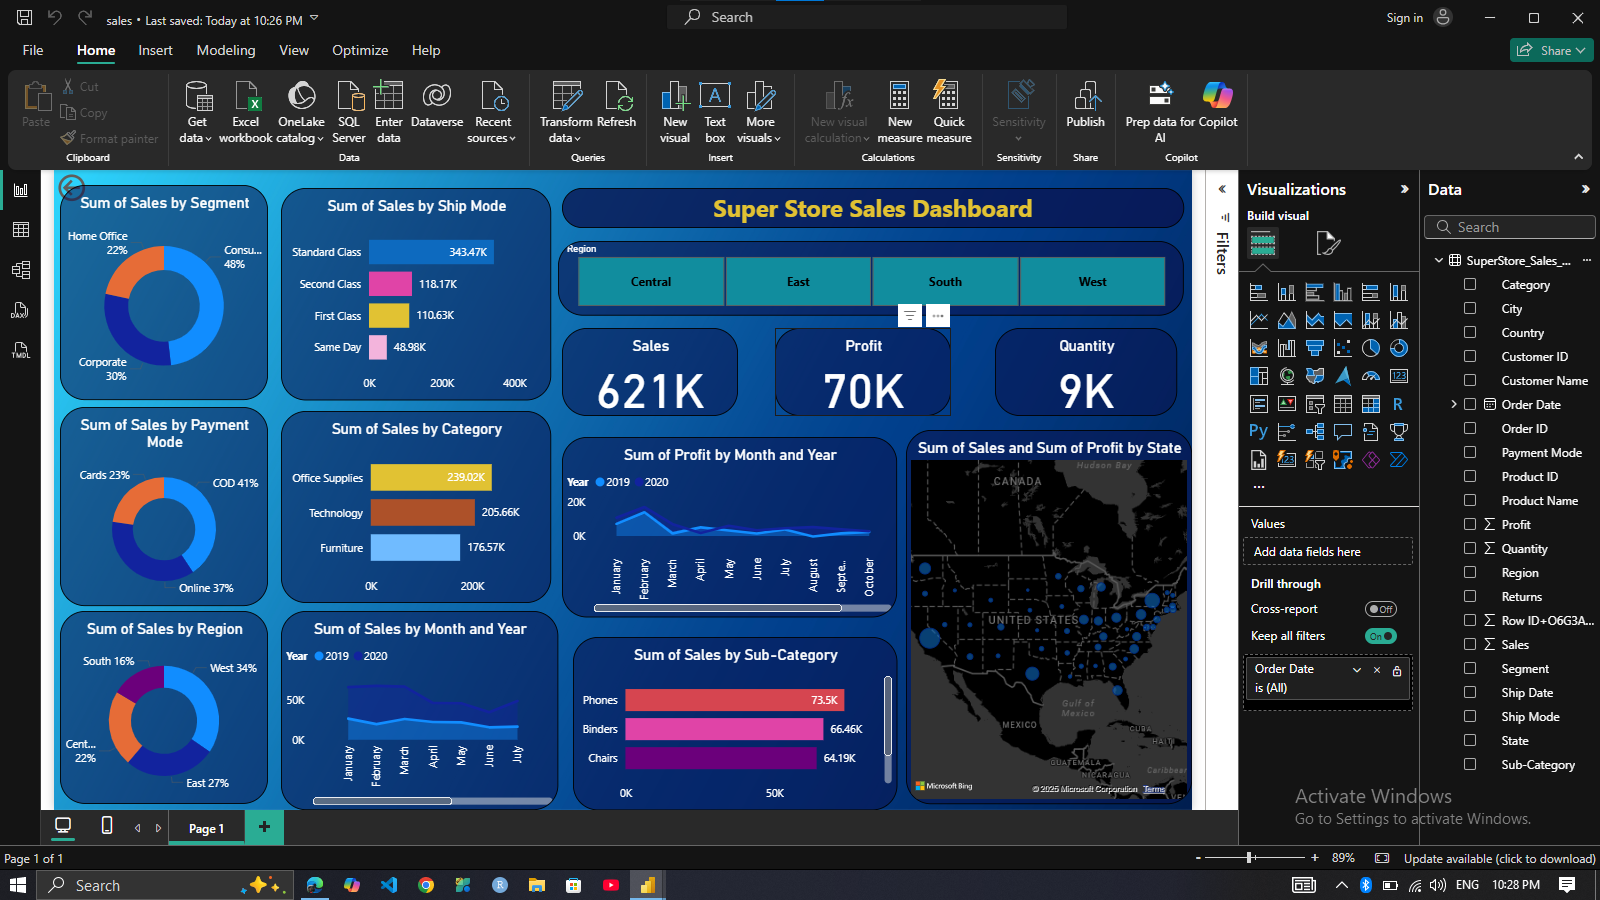

The page's visual inventory and layout, read from the dashboard file:
{"tool":"powerbi","page":{"name":"Page 1","canvas":[1280,720],"ordinal":0},"visuals":[{"type":"clusteredBarChart","fields":{"Category":["SuperStore_Sales_Dataset.Ship Mode"],"Y":["Sum(SuperStore_Sales_Dataset.Sales)"]},"box":[255.4,20.2,303.8,238.5],"z":0},{"type":"clusteredBarChart","fields":{"Category":["SuperStore_Sales_Dataset.Sub-Category"],"Y":["Sum(SuperStore_Sales_Dataset.Sales)"]},"box":[583.9,525.4,364.5,194.6],"z":1000},{"type":"clusteredBarChart","fields":{"Category":["SuperStore_Sales_Dataset.Category"],"Y":["Sum(SuperStore_Sales_Dataset.Sales)"]},"box":[255.4,271.1,303.8,216],"z":2000},{"type":"actionButton","box":[0,0,100,40],"z":3000},{"type":"stackedAreaChart","fields":{"Category":["SuperStore_Sales_Dataset.Order Date.Variation.Date Hierarchy.Month","SuperStore_Sales_Dataset.Order Date.Variation.Date Hierarchy.Day"],"Y":["Sum(SuperStore_Sales_Dataset.Sales)"],"Series":["SuperStore_Sales_Dataset.Order Date.Variation.Date Hierarchy.Year"]},"box":[255.4,496.1,311.6,223.9],"z":4000},{"type":"stackedAreaChart","fields":{"Category":["SuperStore_Sales_Dataset.Order Date.Variation.Date Hierarchy.Month","SuperStore_Sales_Dataset.Order Date.Variation.Date Hierarchy.Day"],"Series":["SuperStore_Sales_Dataset.Order Date.Variation.Date Hierarchy.Year"],"Y":["Sum(SuperStore_Sales_Dataset.Profit)"]},"box":[571.5,300.4,376.9,202.5],"z":5000},{"type":"map","fields":{"Category":["SuperStore_Sales_Dataset.State"],"Size":["Sum(SuperStore_Sales_Dataset.Sales)"]},"box":[958.5,292.5,321.8,420.8],"z":6000},{"type":"donutChart","fields":{"Category":["SuperStore_Sales_Dataset.Segment"],"Y":["Sum(SuperStore_Sales_Dataset.Sales)"]},"box":[6.8,16.9,234,241.9],"z":7000},{"type":"donutChart","fields":{"Category":["SuperStore_Sales_Dataset.Payment Mode","SuperStore_Sales_Dataset.Segment"],"Y":["Sum(SuperStore_Sales_Dataset.Sales)"]},"box":[6.8,266.6,234,223.9],"z":8000},{"type":"donutChart","fields":{"Category":["SuperStore_Sales_Dataset.Region"],"Y":["Sum(SuperStore_Sales_Dataset.Sales)"]},"box":[6.8,496.1,234,217.1],"z":9000},{"type":"slicer","fields":{"Values":["SuperStore_Sales_Dataset.Region"]},"box":[567,79.9,704.2,84.4],"z":10000},{"type":"textbox","box":[571.5,20.2,699.8,45],"z":11000},{"type":"card","title":"Sales","fields":{"Values":["Sum(SuperStore_Sales_Dataset.Sales)"]},"box":[571.5,177.8,198,99],"z":12000},{"type":"card","title":"Profit","fields":{"Values":["Sum(SuperStore_Sales_Dataset.Profit)"]},"box":[811.1,177.8,198,99],"z":13000},{"type":"card","title":"Quantity","fields":{"Values":["Sum(SuperStore_Sales_Dataset.Quantity)"]},"box":[1058.6,177.8,204.8,99],"z":14000}]}

Visuals, with their boxes on the page's 1280x720 design canvas (x1, y1, x2, y2). These are canvas units, not pixel positions in the 1600x900 screenshot, which may show the page scaled, cropped or inside an application window:
clusteredBarChart - SuperStore_Sales_Dataset.Ship Mode x Sum(SuperStore_Sales_Dataset.Sales): {"x1": 255, "y1": 20, "x2": 559, "y2": 259}
clusteredBarChart - SuperStore_Sales_Dataset.Sub-Category x Sum(SuperStore_Sales_Dataset.Sales): {"x1": 584, "y1": 525, "x2": 948, "y2": 720}
clusteredBarChart - SuperStore_Sales_Dataset.Category x Sum(SuperStore_Sales_Dataset.Sales): {"x1": 255, "y1": 271, "x2": 559, "y2": 487}
actionButton: {"x1": 0, "y1": 0, "x2": 100, "y2": 40}
stackedAreaChart - SuperStore_Sales_Dataset.Order Date.Variation.Date Hierarchy.Month x SuperStore_Sales_Dataset.Order Date.Variation.Date Hierarchy.Day: {"x1": 255, "y1": 496, "x2": 567, "y2": 720}
stackedAreaChart - SuperStore_Sales_Dataset.Order Date.Variation.Date Hierarchy.Month x SuperStore_Sales_Dataset.Order Date.Variation.Date Hierarchy.Day: {"x1": 572, "y1": 300, "x2": 948, "y2": 503}
map - SuperStore_Sales_Dataset.State x Sum(SuperStore_Sales_Dataset.Sales): {"x1": 958, "y1": 292, "x2": 1280, "y2": 713}
donutChart - SuperStore_Sales_Dataset.Segment x Sum(SuperStore_Sales_Dataset.Sales): {"x1": 7, "y1": 17, "x2": 241, "y2": 259}
donutChart - SuperStore_Sales_Dataset.Payment Mode x SuperStore_Sales_Dataset.Segment: {"x1": 7, "y1": 267, "x2": 241, "y2": 490}
donutChart - SuperStore_Sales_Dataset.Region x Sum(SuperStore_Sales_Dataset.Sales): {"x1": 7, "y1": 496, "x2": 241, "y2": 713}
slicer - SuperStore_Sales_Dataset.Region: {"x1": 567, "y1": 80, "x2": 1271, "y2": 164}
textbox: {"x1": 572, "y1": 20, "x2": 1271, "y2": 65}
"Sales" card: {"x1": 572, "y1": 178, "x2": 770, "y2": 277}
"Profit" card: {"x1": 811, "y1": 178, "x2": 1009, "y2": 277}
"Quantity" card: {"x1": 1059, "y1": 178, "x2": 1263, "y2": 277}
